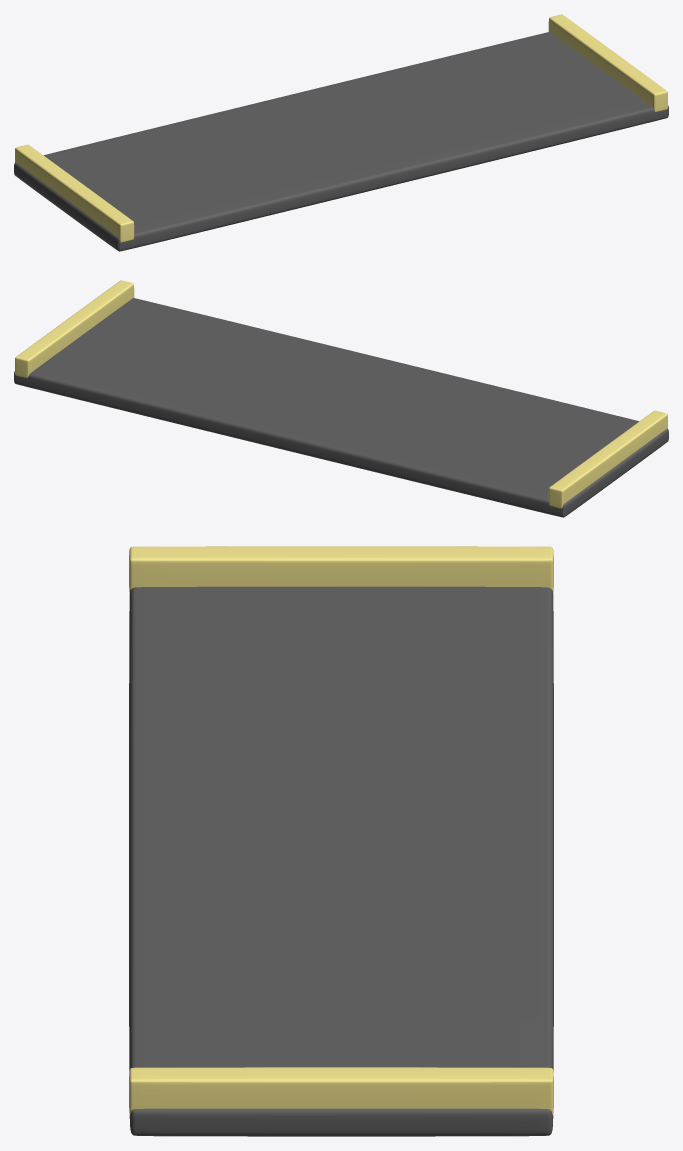
Rendered from Toy_RubberTrack_C3_Hi.fbx.
3 renders of one model, top to bottom at view 1: azimuth 30°, elevation 25°; view 2: azimuth 150°, elevation 25°; view 3: azimuth 270°, elevation 25°, orthographic. The views are drawn at different scales.
Visible parts, largest first — view 1: Cube, Cube.001, Cube.002; view 2: Cube, Cube.001, Cube.002; view 3: Cube, Cube.002, Cube.001.
Part boxes in pixels (left/top/right/bottom): Cube: left=14, top=32, right=668, bottom=251; Cube.001: left=15, top=144, right=134, bottom=242; Cube.002: left=548, top=14, right=667, bottom=111; Cube: left=14, top=298, right=668, bottom=517; Cube.001: left=548, top=410, right=667, bottom=508; Cube.002: left=15, top=280, right=134, bottom=377; Cube: left=129, top=586, right=553, bottom=1136; Cube.002: left=129, top=1067, right=553, bottom=1115; Cube.001: left=129, top=546, right=553, bottom=593.
Bounding box in the file's own units: 3 × 0.1497 × 0.9998.
